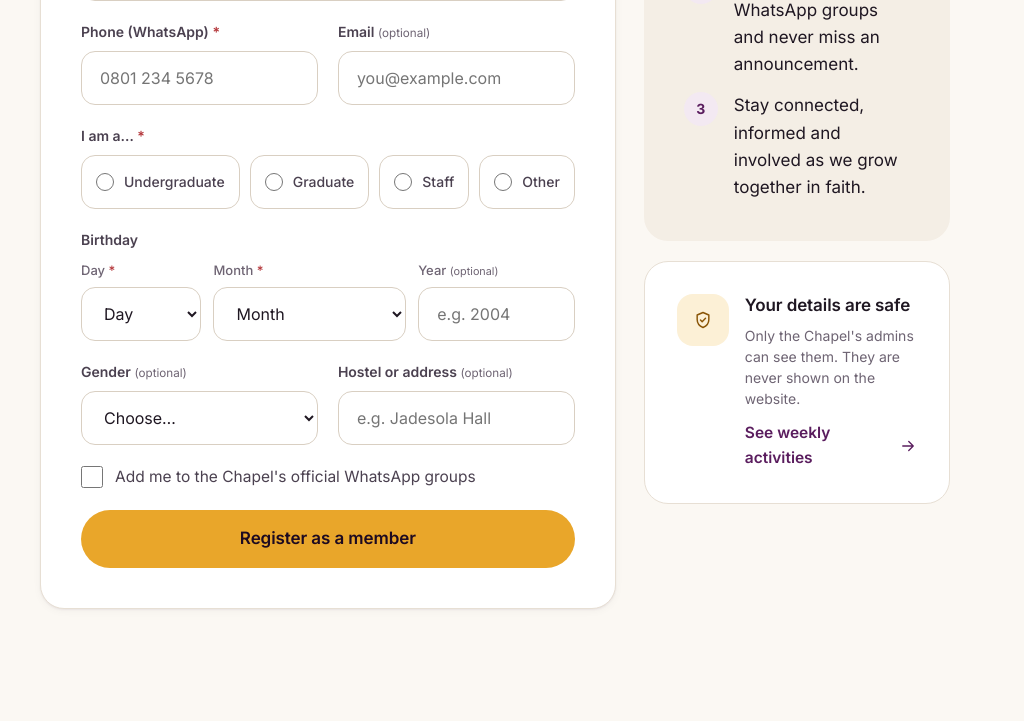
Test: Membership page › does not send the form when the required fields are empty
The image size is (1024, 721).
(page scrolled)
Click the button "Register as a member": (328, 539) [81,510,575,568]
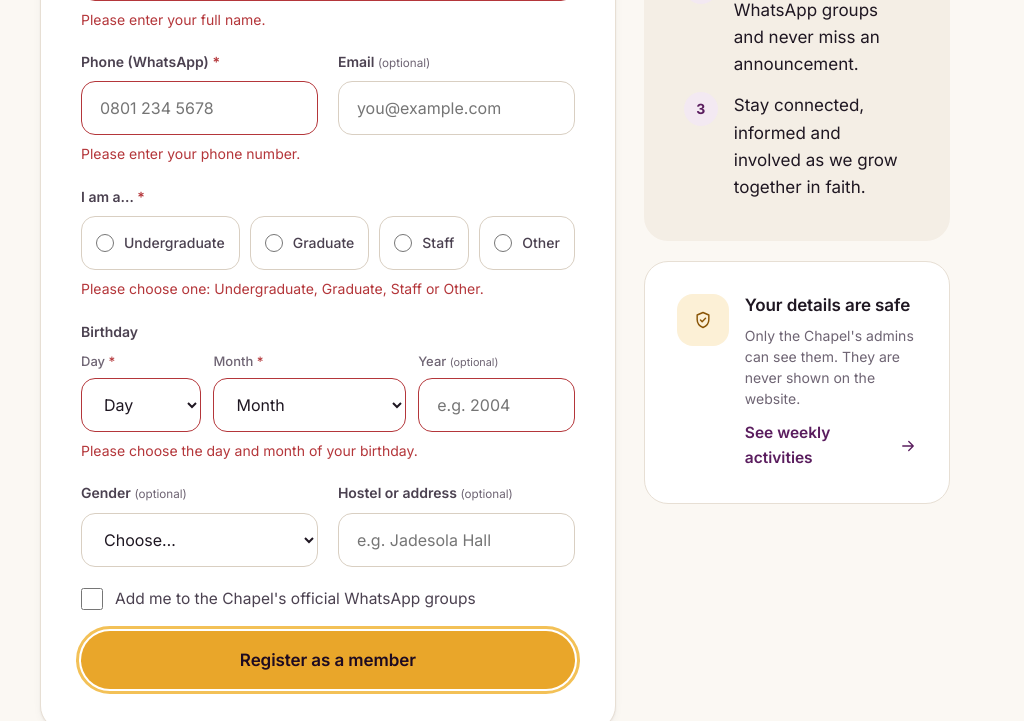
Expected: the text "Please enter your full name." is shown, [81,11,266,28]
Expected: the text "Please enter your phone number." is shown, [81,144,318,166]
Expected: the text "Please choose one: Undergraduate, Graduate, Staff or Other." is shown, [81,280,484,297]
